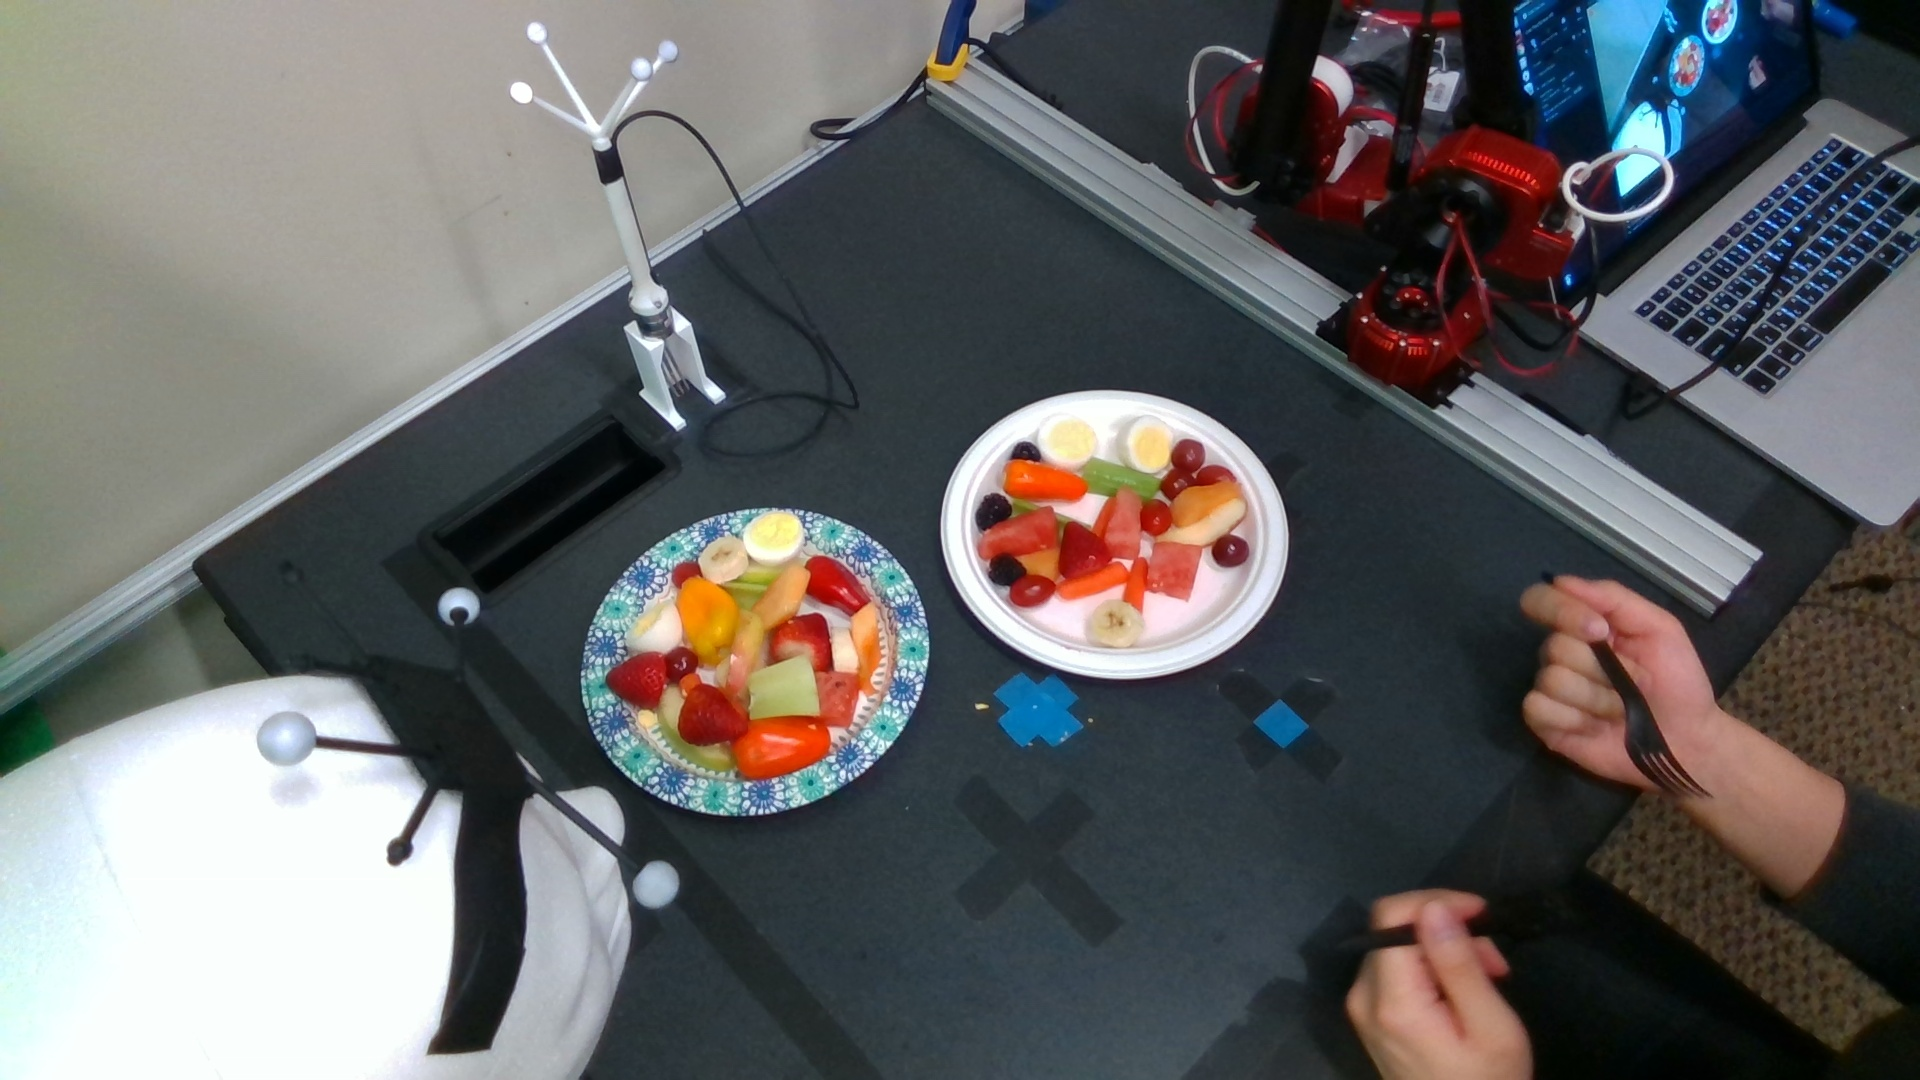apple: (658, 684, 735, 771), (1155, 498, 1249, 545), (727, 611, 764, 696)
banana: (1084, 600, 1146, 647), (715, 651, 767, 696), (699, 535, 748, 583), (831, 626, 858, 674)
bell pepper: (679, 575, 746, 665), (733, 717, 831, 778), (804, 555, 872, 611), (1004, 459, 1088, 501)
blackberry: (977, 493, 1013, 531), (988, 554, 1029, 584), (1011, 439, 1040, 463)
cantalope: (746, 567, 810, 632), (1174, 483, 1244, 524), (853, 603, 881, 694)
carrot: (1059, 562, 1127, 597), (1127, 556, 1149, 603)
celery: (749, 655, 822, 719), (1083, 458, 1160, 500)
cherry tomato: (1010, 574, 1056, 607), (1142, 500, 1172, 535), (1197, 464, 1236, 484)
egg: (1038, 414, 1098, 469), (1116, 415, 1172, 472), (742, 512, 802, 566), (626, 600, 683, 653)
grape: (1213, 535, 1247, 566), (666, 646, 698, 678), (1174, 439, 1204, 471), (1162, 471, 1195, 498)
melon: (978, 506, 1059, 558), (1147, 541, 1203, 601), (1105, 487, 1142, 556), (814, 673, 858, 727)
plate: (580, 506, 928, 815), (940, 389, 1287, 678)
strawberry: (679, 683, 749, 746), (769, 613, 832, 670), (608, 651, 665, 707), (1059, 522, 1112, 578)
